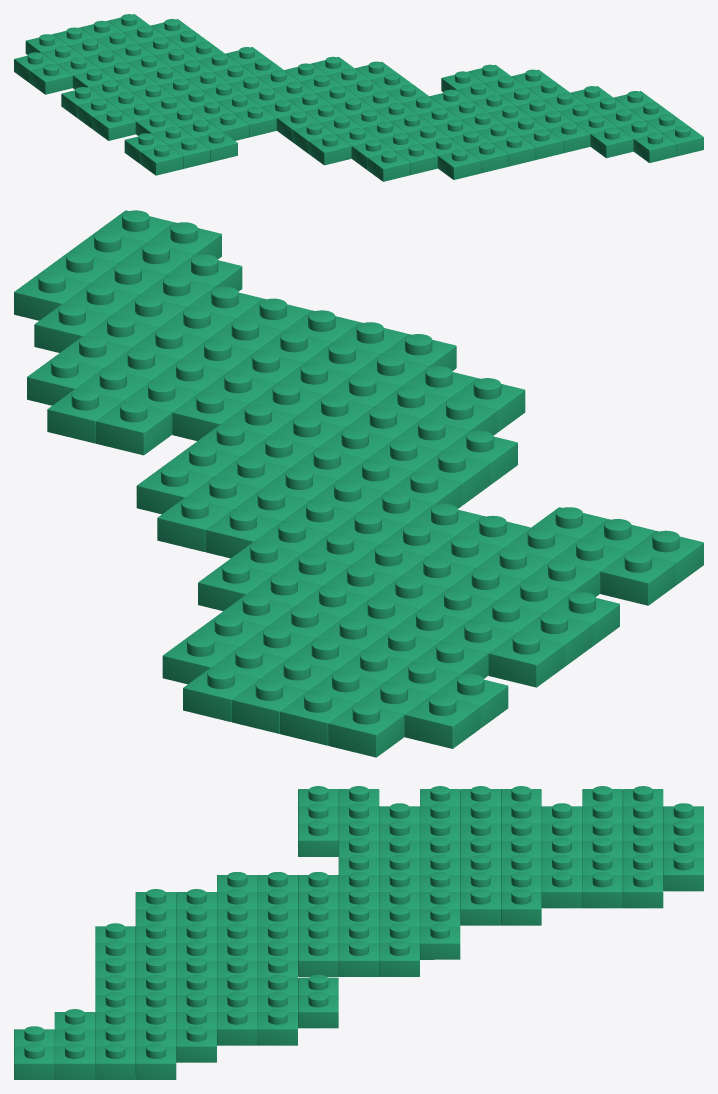
File: CentralAmerica.fbx
The picture shows the model from 3 angles, top to bottom: view 1: azimuth 30°, elevation 25°; view 2: azimuth 150°, elevation 25°; view 3: azimuth 270°, elevation 25°; orthographic projection. The views are drawn at different scales.
Visible parts, largest first — view 1: Cylinder_83; view 2: Cylinder_83; view 3: Cylinder_83.
Boxes of the visible parts, x1=… form: Cylinder_83: x1=14, y1=14, x2=703, y2=181; Cylinder_83: x1=14, y1=210, x2=703, y2=757; Cylinder_83: x1=14, y1=786, x2=703, y2=1079.
Size of the model in its own units: 1600 by 65.03 by 1700.
